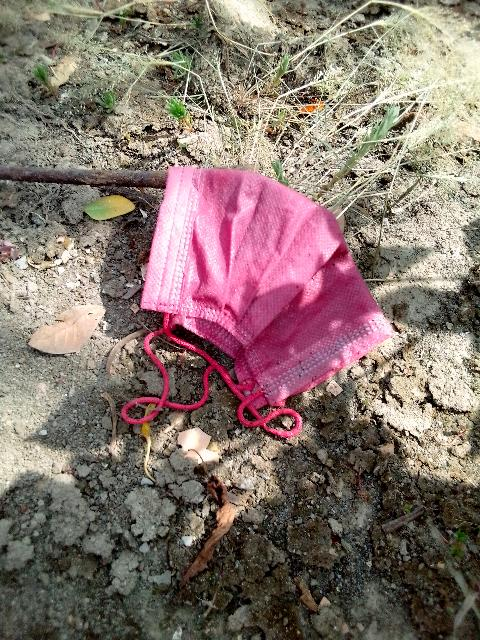mask: (164, 160, 376, 429)
